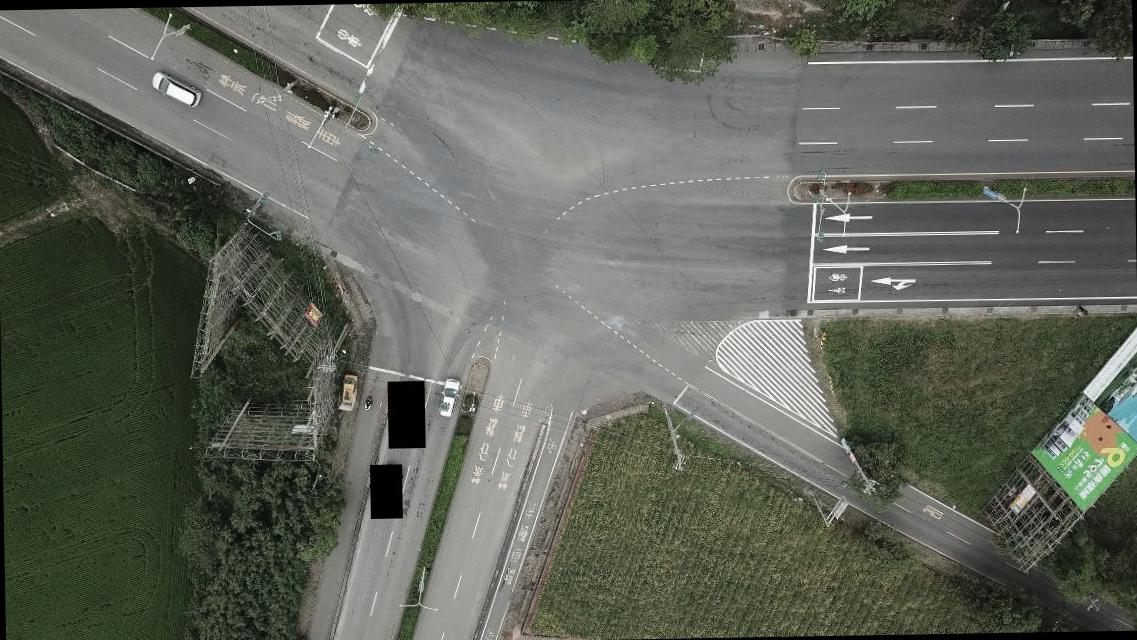vehicle: (150, 70, 202, 108), (437, 377, 459, 415), (340, 373, 360, 405)
